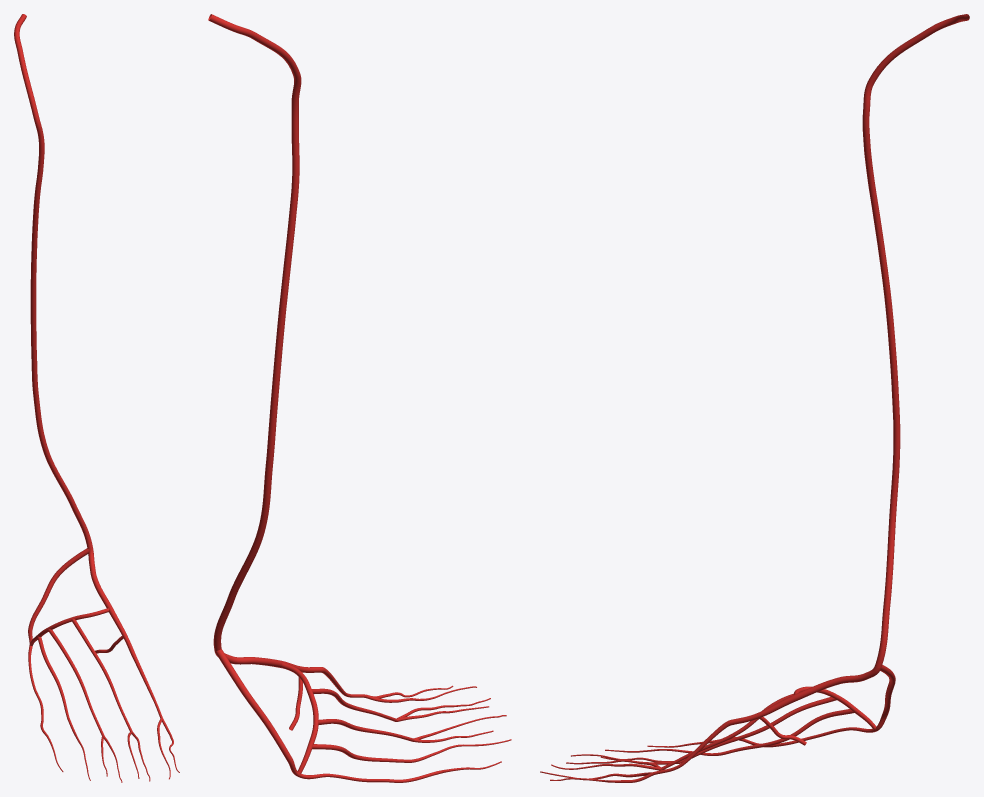
The model's file is circulatorio-anterior-tibial-artery-r.glb.
3 views of the same model, side by side, from view 1: azimuth 30°, elevation 25°; view 2: azimuth 150°, elevation 25°; view 3: azimuth 270°, elevation 25° (orthographic). The views are drawn at different scales.
Visible parts, largest first — view 1: Anterior tibial artery.r, Dorsal metatarsal arteries.r, Dorsal digital arteries of foot.r, Dorsalis pedis artery.r, Lateral tarsal artery.r, Arcuate artery.r; view 2: Anterior tibial artery.r, Dorsal digital arteries of foot.r, Dorsal metatarsal arteries.r, Lateral tarsal artery.r, Arcuate artery.r, Dorsalis pedis artery.r; view 3: Anterior tibial artery.r, Dorsal digital arteries of foot.r, Dorsal metatarsal arteries.r, Dorsalis pedis artery.r.
Part boxes in pixels (left/top/right/bottom): Anterior tibial artery.r: left=14, top=14, right=93, bottom=549; Dorsal metatarsal arteries.r: left=37, top=618, right=162, bottom=735; Dorsal digital arteries of foot.r: left=28, top=645, right=179, bottom=782; Dorsalis pedis artery.r: left=88, top=549, right=133, bottom=652; Lateral tarsal artery.r: left=28, top=548, right=89, bottom=643; Arcuate artery.r: left=29, top=608, right=109, bottom=645; Anterior tibial artery.r: left=208, top=14, right=301, bottom=651; Dorsal digital arteries of foot.r: left=298, top=685, right=511, bottom=782; Dorsal metatarsal arteries.r: left=311, top=667, right=414, bottom=762; Lateral tarsal artery.r: left=215, top=649, right=299, bottom=776; Arcuate artery.r: left=281, top=662, right=318, bottom=774; Dorsalis pedis artery.r: left=214, top=651, right=323, bottom=672; Anterior tibial artery.r: left=862, top=14, right=969, bottom=667; Dorsal digital arteries of foot.r: left=540, top=727, right=876, bottom=782; Dorsal metatarsal arteries.r: left=652, top=693, right=854, bottom=775; Dorsalis pedis artery.r: left=729, top=666, right=880, bottom=725.
Size of the model in its own units: 0.0762 by 0.3763 by 0.1863.
